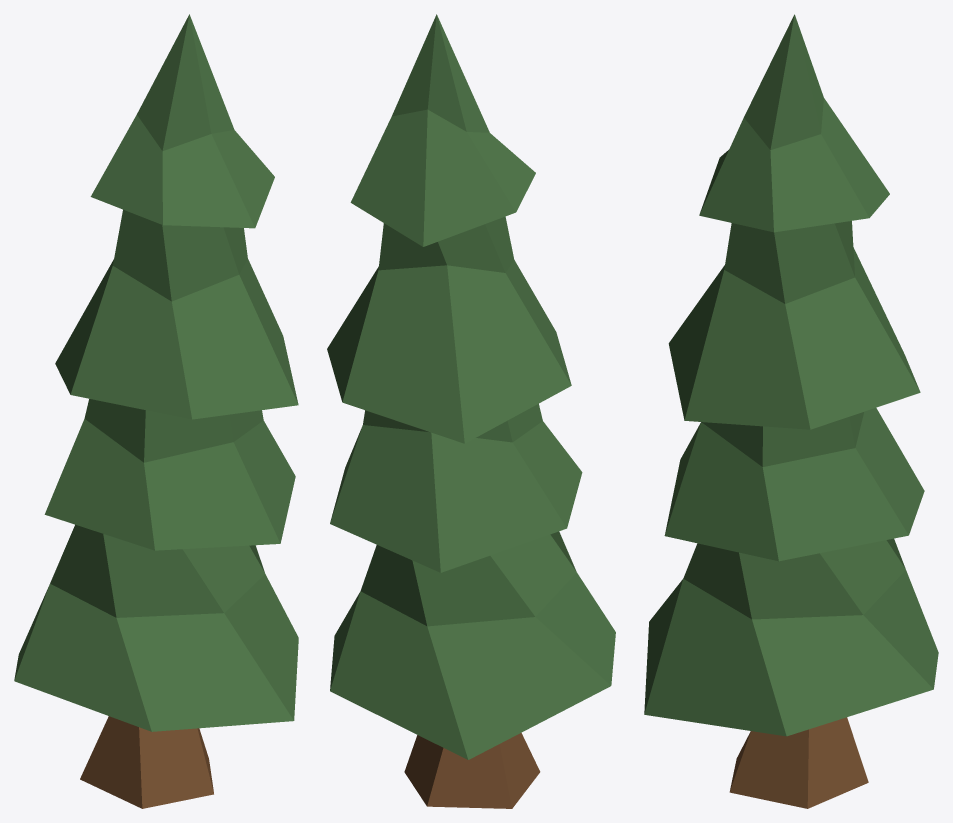
The model's file is forest-spruce-c.glb.
3 views of the same model, side by side, from view 1: azimuth 30°, elevation 25°; view 2: azimuth 150°, elevation 25°; view 3: azimuth 270°, elevation 25° (orthographic). The views are drawn at different scales.
Parts seen in each view (by area): view 1: SpruceTree3; view 2: SpruceTree3; view 3: SpruceTree3.
Boxes of the visible parts, <box> form: SpruceTree3: <box>14,14,298,808</box>; SpruceTree3: <box>327,14,615,808</box>; SpruceTree3: <box>644,14,938,808</box>.
Bounding box in the file's own units: 5.25 × 13.55 × 4.62.
